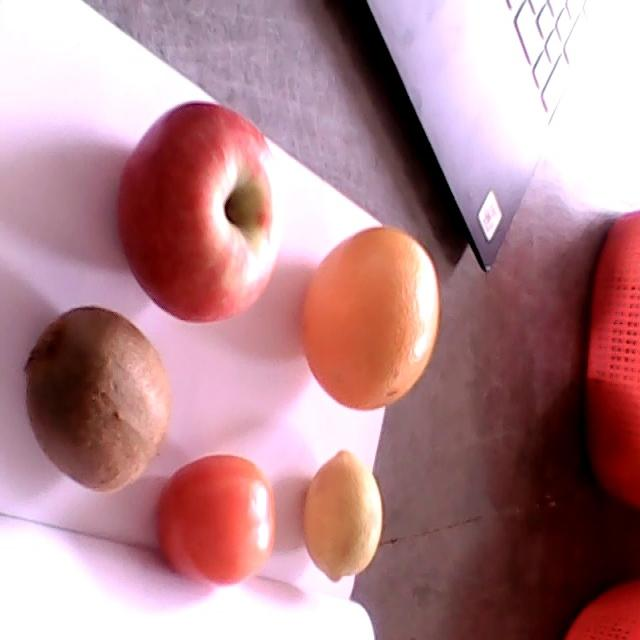apple: (116, 104, 283, 323)
kiwi: (23, 306, 173, 494)
lemon: (302, 451, 383, 581)
orange: (303, 227, 439, 409)
tomato: (157, 454, 277, 584)
